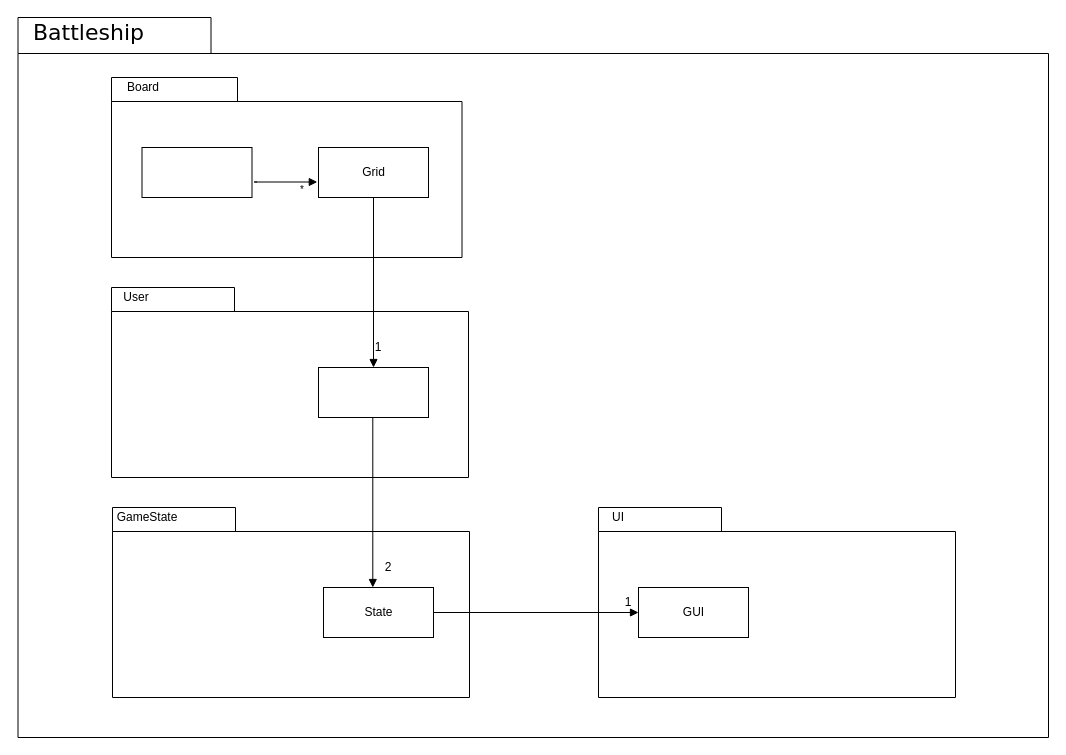
Image size: 1066x755. Some labels were removed from this diagram. The centre of each missing label's shape, as x and y in pixels:
Player: point 373,392
Ship: point 196,172
